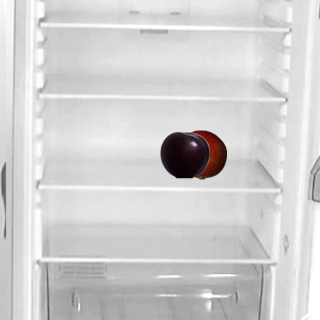Apple Braeburn: (176, 129, 226, 179)
Cherry Wax Black: (159, 129, 209, 179)
